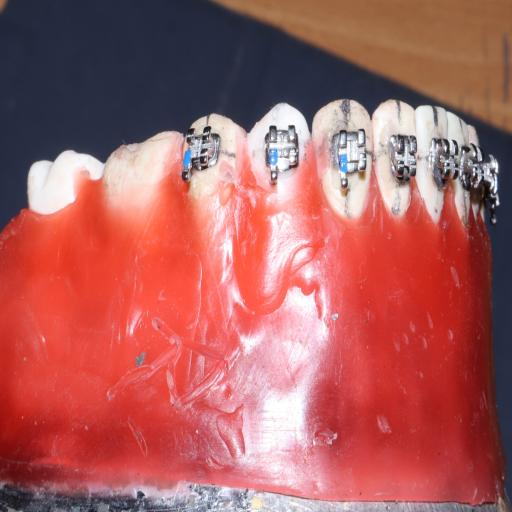correct_brace: (248, 103, 310, 194)
incorrect_brace: (262, 122, 301, 176)
